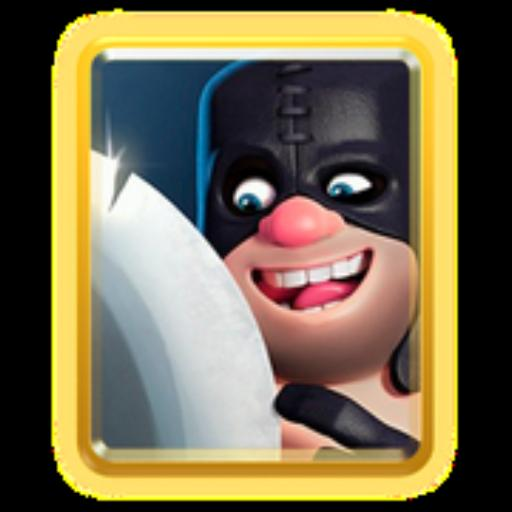executioner: (98, 60, 418, 454)
